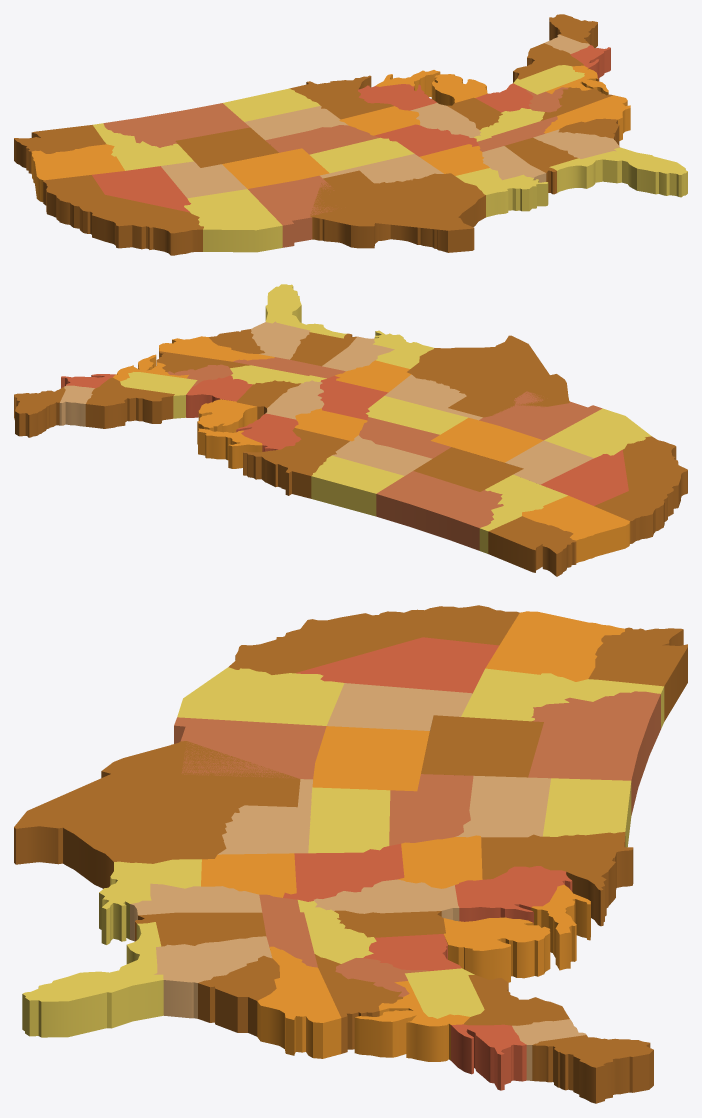
File: USA_Map_Smoke.fbx
3 views of the same model, one above another, from view 1: azimuth 30°, elevation 25°; view 2: azimuth 150°, elevation 25°; view 3: azimuth 270°, elevation 25° (orthographic). The views are drawn at different scales.
Parts seen in each view (by area): view 1: Texas.005, California.005, Arizona.005, Florida.005, Montana.005, New Mexico.005, Nevada.005, Oregon.006, Louisiana.005, Colorado.005, Wyoming.005, Minnesota.005 (+32 smaller); view 2: Texas.005, Montana.005, California.005, Washington.005, Minnesota.005, Oregon.006, North dakota.005, New york.005, Arizona.005, New Mexico.005, Nevada.005, Colorado.005 (+32 smaller); view 3: Texas.005, California.005, Montana.005, Florida.005, New Mexico.005, Minnesota.005, Arizona.005, Nevada.005, Colorado.005, Maine.005, North Carolina.005, Wyoming.005 (+32 smaller).
Boxes of the visible parts, left/top/right/bottom form: Texas.005: left=310, top=170, right=485, bottom=252; California.005: left=43, top=175, right=203, bottom=255; Arizona.005: left=184, top=189, right=282, bottom=252; Florida.005: left=549, top=147, right=687, bottom=197; Montana.005: left=103, top=103, right=249, bottom=147; New Mexico.005: left=248, top=175, right=334, bottom=247; Nevada.005: left=92, top=166, right=190, bottom=212; Oregon.006: left=31, top=144, right=124, bottom=202; Louisiana.005: left=455, top=168, right=548, bottom=217; Colorado.005: left=222, top=148, right=329, bottom=188; Wyoming.005: left=175, top=127, right=278, bottom=167; Minnesota.005: left=289, top=75, right=393, bottom=119; Texas.005: left=407, top=335, right=569, bottom=417; Montana.005: left=376, top=471, right=503, bottom=550; California.005: left=594, top=436, right=687, bottom=543; Washington.005: left=488, top=516, right=576, bottom=576; Minnesota.005: left=243, top=428, right=349, bottom=498; Oregon.006: left=522, top=495, right=630, bottom=562; North dakota.005: left=311, top=455, right=404, bottom=516; New york.005: left=85, top=377, right=174, bottom=428; Arizona.005: left=544, top=408, right=651, bottom=458; New Mexico.005: left=479, top=391, right=602, bottom=440; Nevada.005: left=540, top=450, right=628, bottom=505; Colorado.005: left=431, top=417, right=543, bottom=462; Texas.005: left=14, top=741, right=300, bottom=888; California.005: left=228, top=605, right=519, bottom=674; Montana.005: left=528, top=691, right=660, bottom=815; Florida.005: left=22, top=922, right=163, bottom=1037; New Mexico.005: left=174, top=717, right=326, bottom=779; Minnesota.005: left=481, top=832, right=633, bottom=926; Arizona.005: left=177, top=667, right=344, bottom=725; Nevada.005: left=295, top=637, right=499, bottom=693; Colorado.005: left=312, top=726, right=429, bottom=791; Maine.005: left=532, top=1035, right=653, bottom=1103; North Carolina.005: left=257, top=946, right=341, bottom=1058; Wyoming.005: left=421, top=715, right=543, bottom=777.
Bounding box in the file's own units: 931 × 33.66 × 573.
